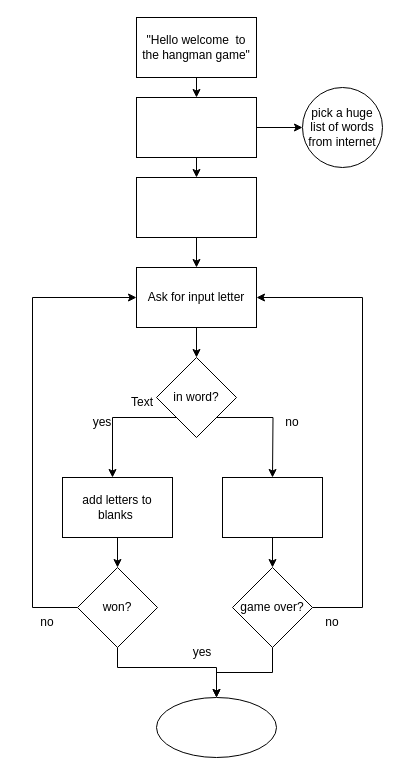
Image size: 400x775. Some labels were removed from this diagram. Each missing label, with the box of its shape:
based on the word draw amount of lines and set everything up: (136, 176, 256, 238)
draw line add letter to database: (222, 476, 322, 538)
end game:: (156, 696, 276, 758)
Pick random word: (136, 96, 256, 158)
